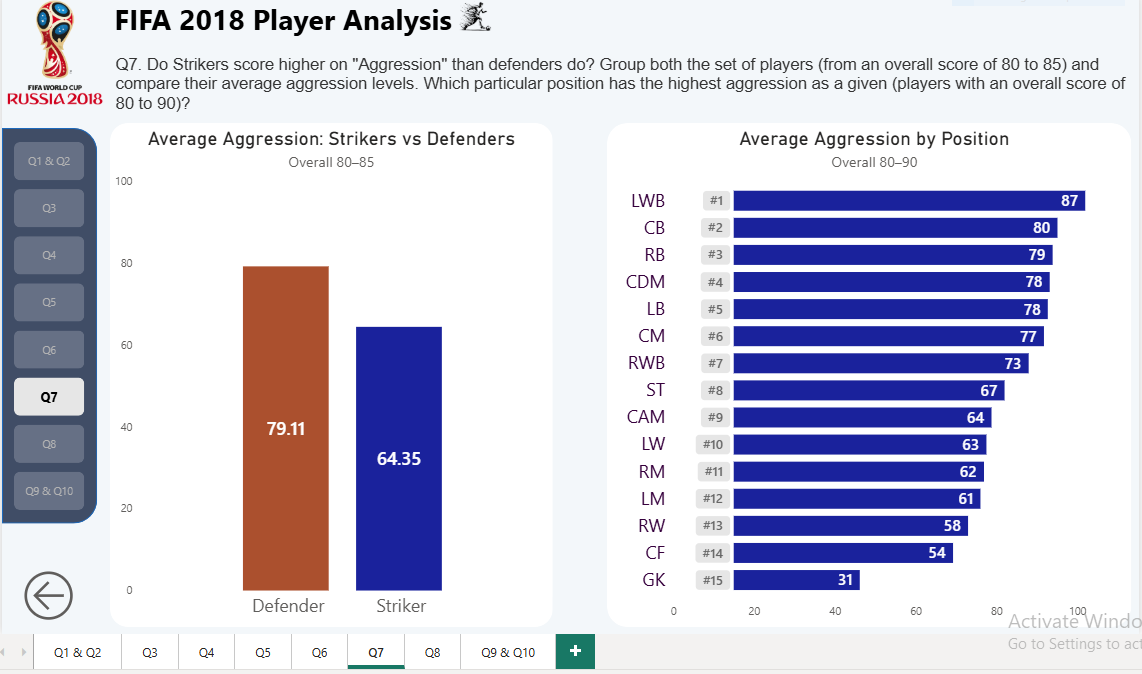

The dashboard page shown, as its layout file describes it:
{"tool":"powerbi","page":{"name":"Q7","canvas":[1280,720],"ordinal":5},"visuals":[{"type":"shape","box":[121.7,144.6,498.3,567],"z":0},{"type":"shape","box":[680.1,144.6,589.9,567],"z":1000},{"type":"shape","box":[0,150.4,107.1,444.9],"z":1000,"group":"g1"},{"type":"textbox","box":[121.1,0,402.9,53.5],"z":2000},{"type":"columnChart","title":"Average Aggression: Strikers vs Defenders","fields":{"Category":["FIFA 2018 Dataset.PositionGroup"],"Y":["FIFA 2018 Dataset.AvgAgg_Defenders_80_85","FIFA 2018 Dataset.AvgAgg_Strikers_80_85"]},"box":[121.7,144.6,498.3,567],"z":3000},{"type":"barChart","title":"Average Aggression by Position","fields":{"Category":["FIFA 2018 Dataset.Best Position"],"Y":["FIFA 2018 Dataset.Dummy for Avg_aggr","FIFA 2018 Dataset.AvgAgg_ByPosition_80_90"]},"box":[693,144.6,577,567],"z":4000},{"type":"textbox","box":[122.4,62.5,1148.7,109.6],"z":5000},{"type":"image","box":[0,0,119.8,130],"z":6000},{"type":"image","box":[484.5,0,95.6,50],"z":7000},{"type":"group","id":"g1","title":"Group 1","box":[0,150.4,107.1,444.9],"z":7001},{"type":"actionButton","box":[17.8,642.5,70.1,68.8],"z":7002},{"type":"pageNavigator","box":[14,165.7,79,415.6],"z":8000,"group":"g1"}]}

Visuals, with their boxes on the page's 1280x720 design canvas (x1, y1, x2, y2). These are canvas units, not pixel positions in the 1142x674 screenshot, which may show the page scaled, cropped or inside an application window:
shape: [122, 145, 620, 712]
shape: [680, 145, 1270, 712]
shape: [0, 150, 107, 595]
textbox: [121, 0, 524, 54]
"Average Aggression: Strikers vs Defenders" columnChart: [122, 145, 620, 712]
"Average Aggression by Position" barChart: [693, 145, 1270, 712]
textbox: [122, 62, 1271, 172]
image: [0, 0, 120, 130]
image: [484, 0, 580, 50]
"Group 1" group: [0, 150, 107, 595]
actionButton: [18, 642, 88, 711]
pageNavigator: [14, 166, 93, 581]
